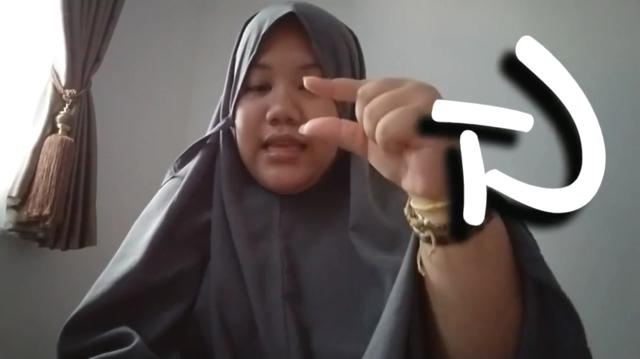G: (295, 68, 449, 191)
